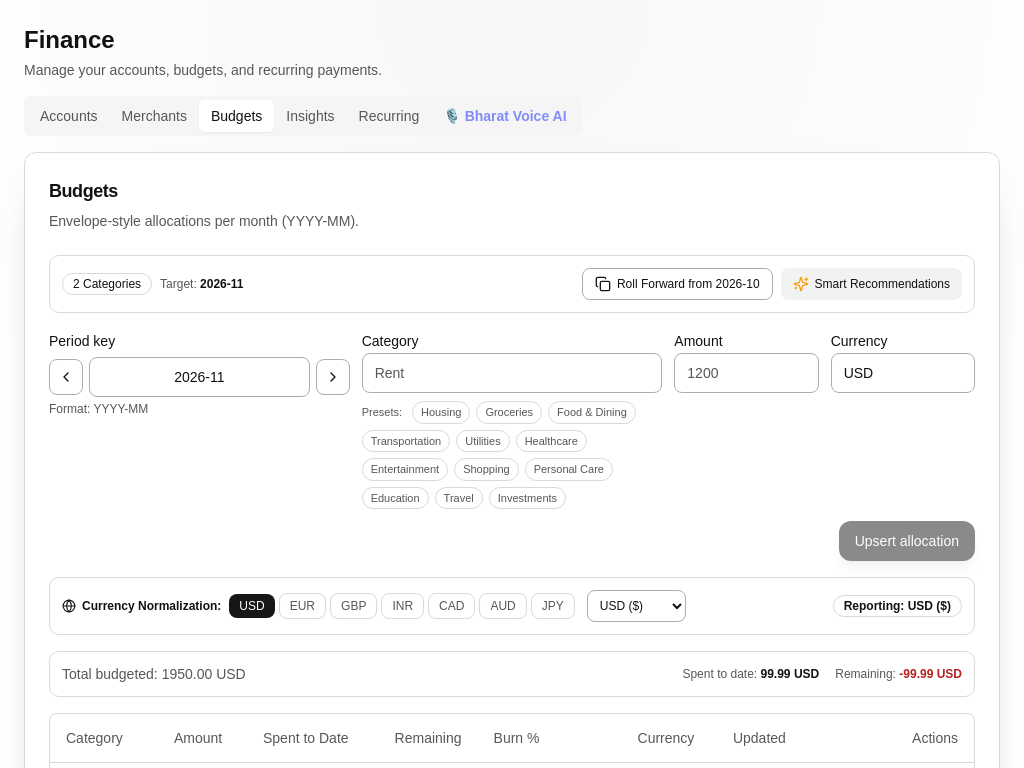
Test: FinanceOS › refetches envelopes after an upsert so remaining reflects the new allocation
expect the text with test id "text-budget-remaining" shows "-99.99": met, box x1=899 y1=667 x2=933 y2=681
Type "Groceries" into the field labelled "Category" at (512, 373), box x1=362 y1=353 x2=662 y2=393
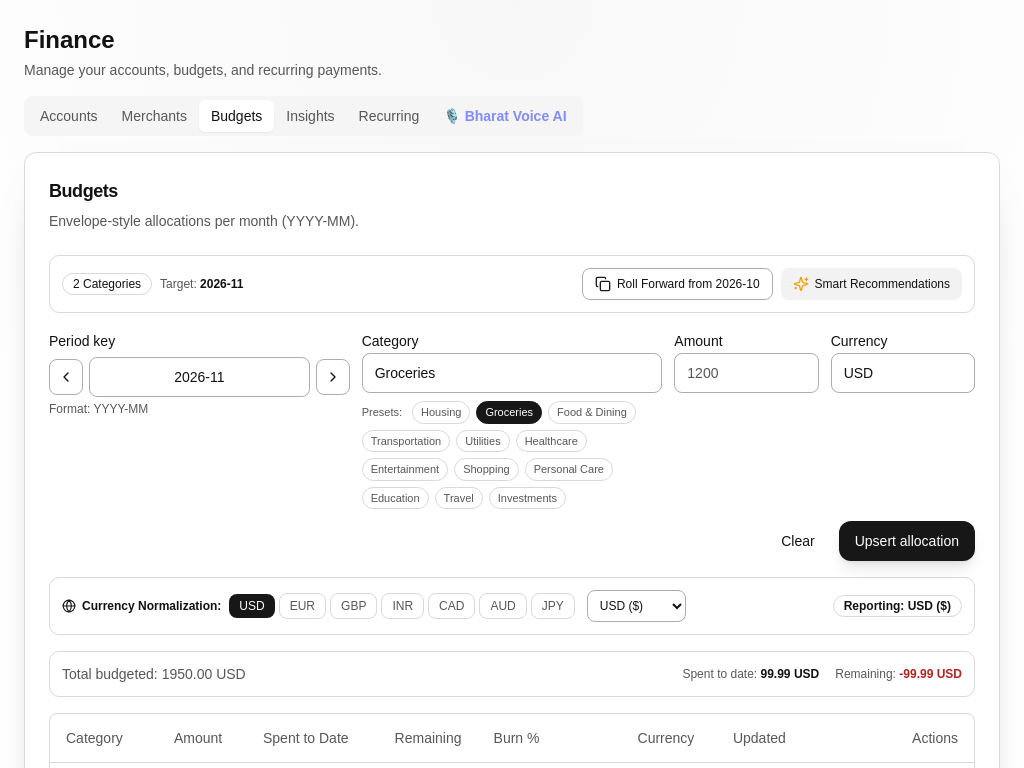
Type "120.50" into the field labelled "Amount" at (746, 373), box x1=674 y1=353 x2=819 y2=393
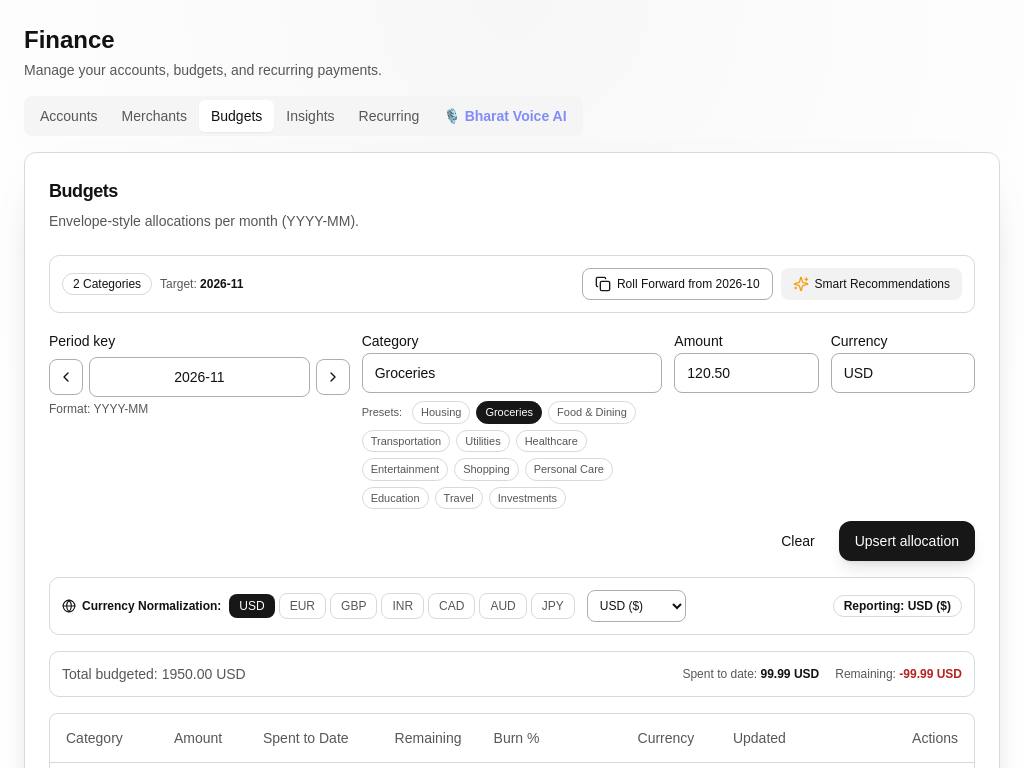
Click the button "Upsert allocation" at (907, 541), box x1=839 y1=521 x2=975 y2=561
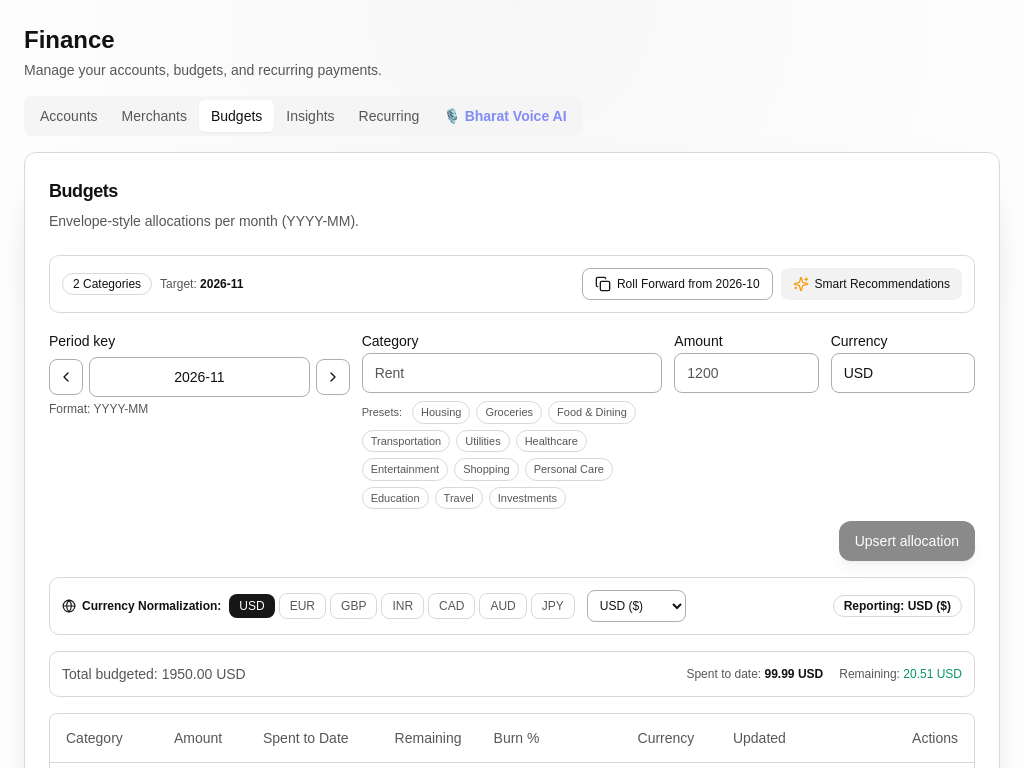
expect the text with test id "text-budget-remaining" shows "20.51": met, box x1=903 y1=667 x2=933 y2=681
